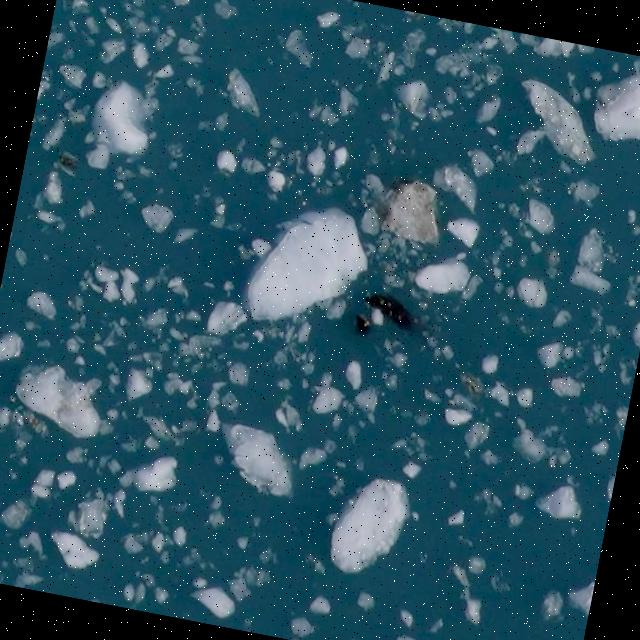seal: (364, 283, 424, 338), (355, 317, 371, 335)
